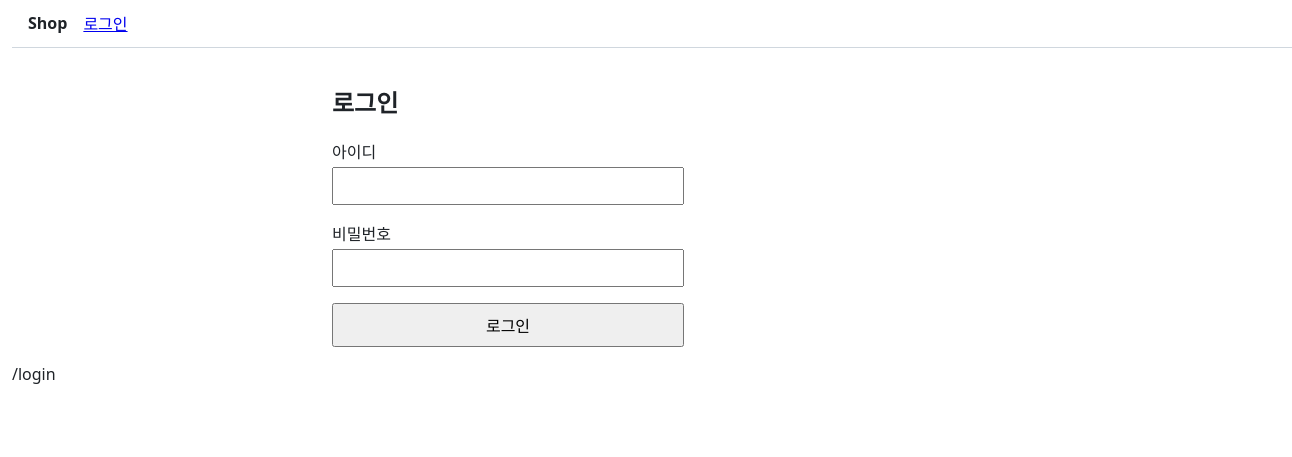
Test: LoginPage › 빈 값 제출 시 필드 메시지를 보여 준다
Click the button "로그인" at [508, 325], box [332,303,684,347]
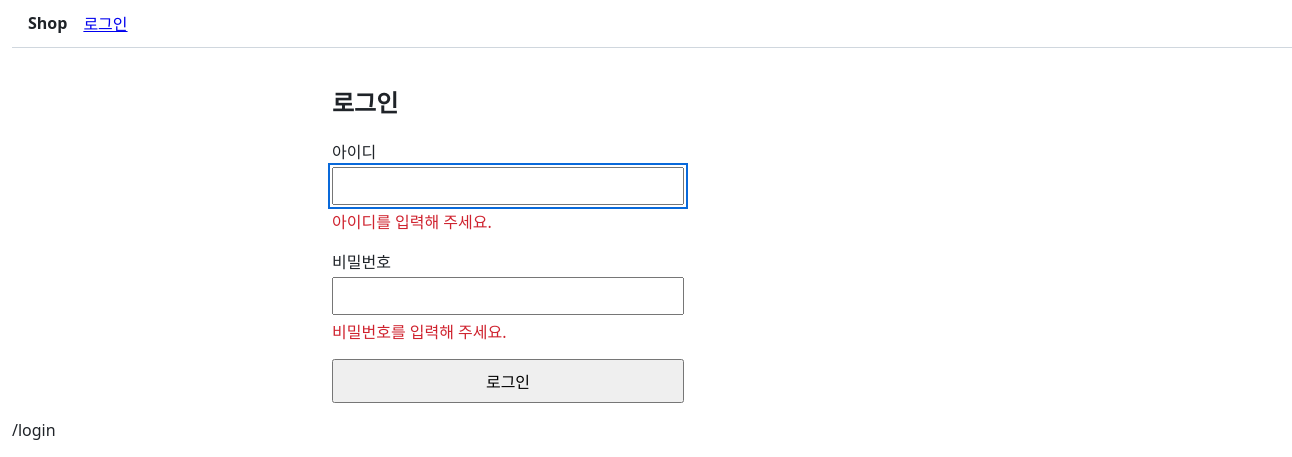
expect the text "아이디를 입력해 주세요." is shown: met, box [332,211,492,233]
expect the text "비밀번호를 입력해 주세요." is shown: met, box [332,321,506,343]
